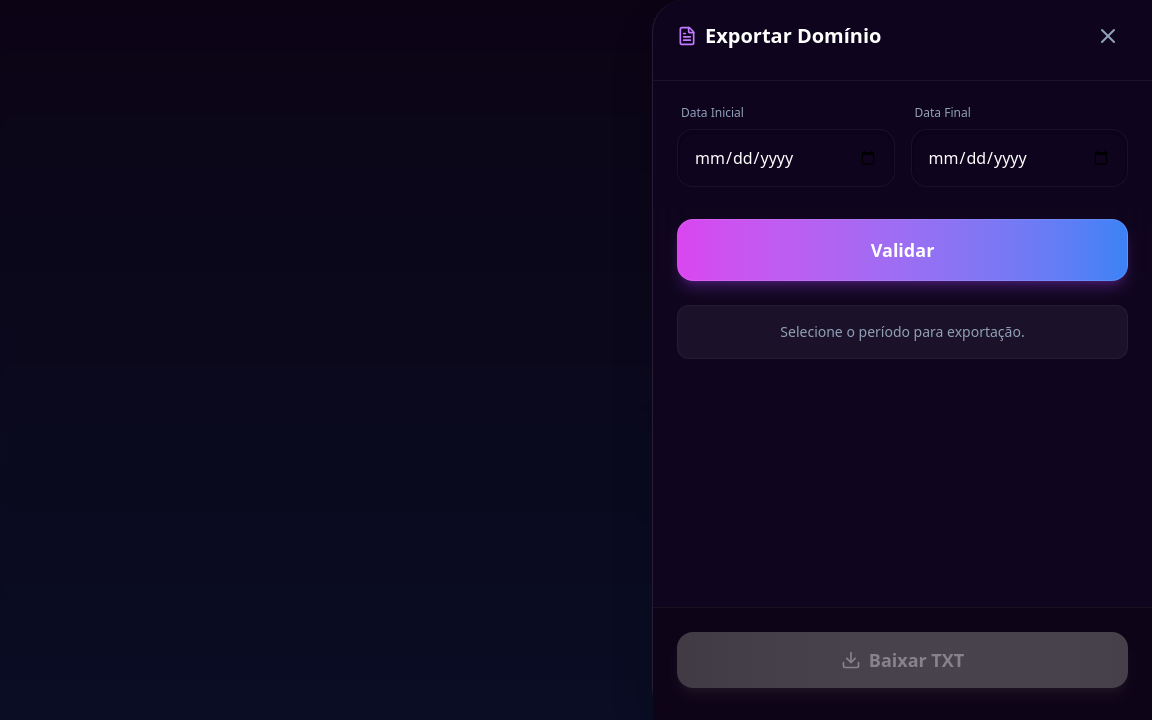
Test: ExportDominioModal & TransactionHistoryPage › Modal Behavior › T11 — Validação sem blockers libera download
Type "2026-05-01" into the date field labelled "Data Inicial". click: (786, 158)
box: x1=677 y1=129 x2=894 y2=187
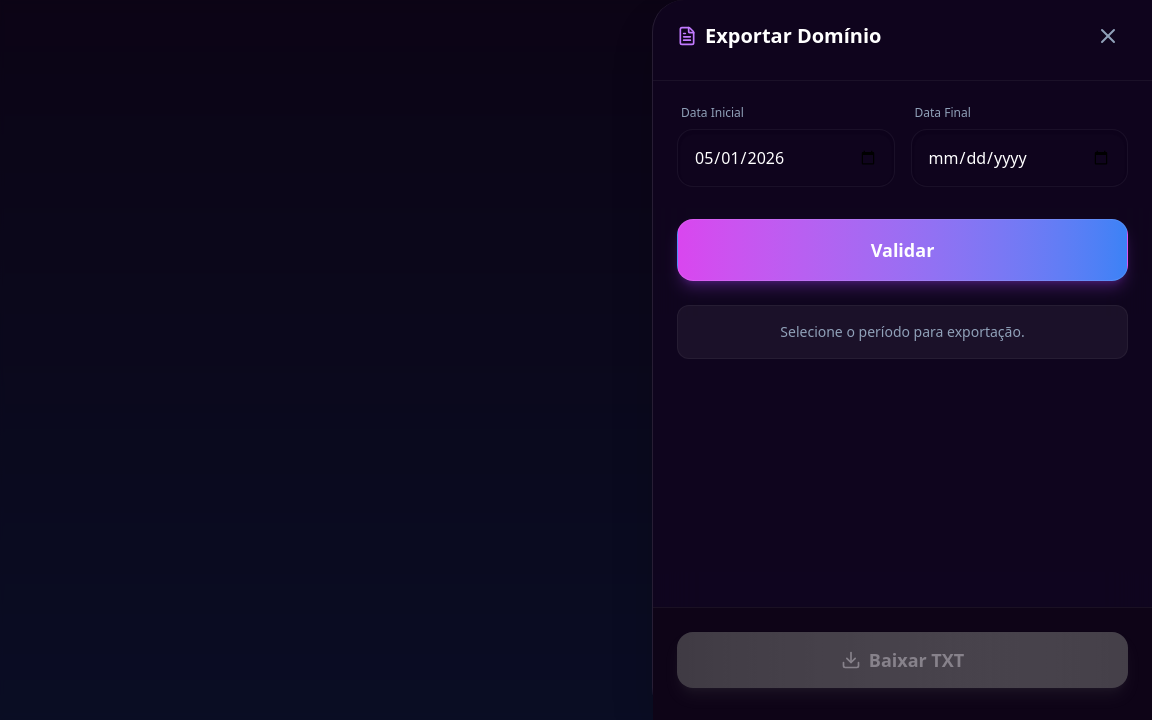
Type "2026-05-31" into the date field labelled "Data Final". click: (1019, 158)
box: x1=910 y1=129 x2=1128 y2=187
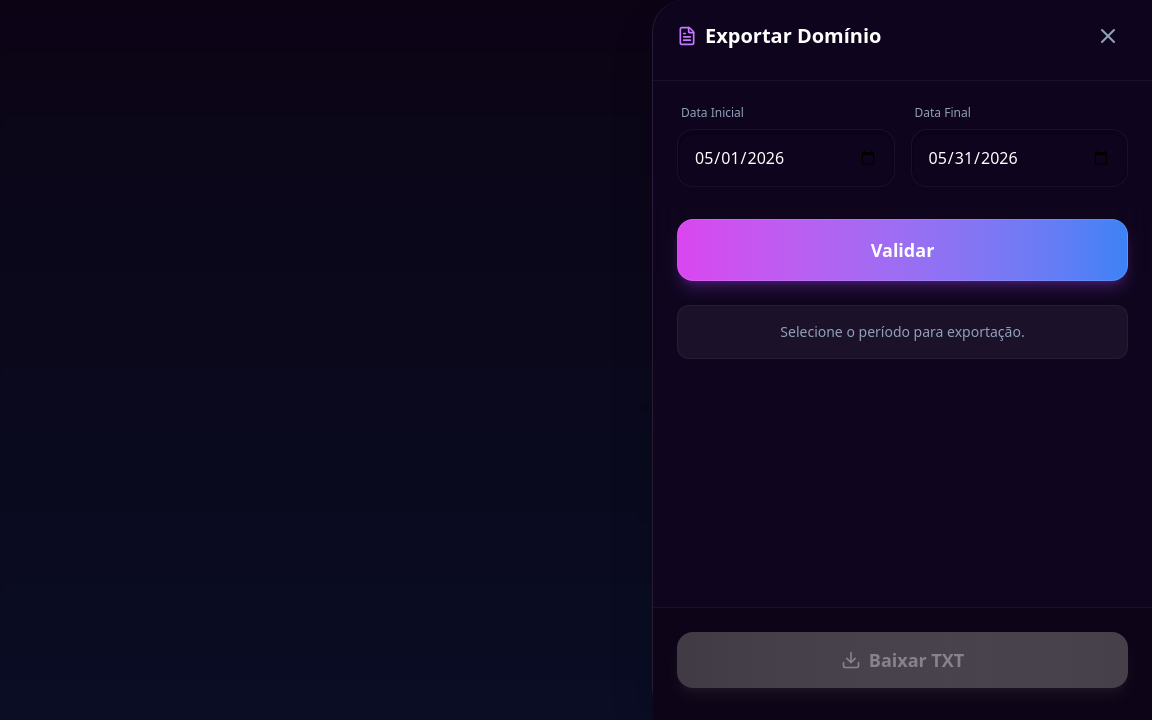
Click the button "Validar". click: (902, 250)
box: x1=677 y1=219 x2=1128 y2=281
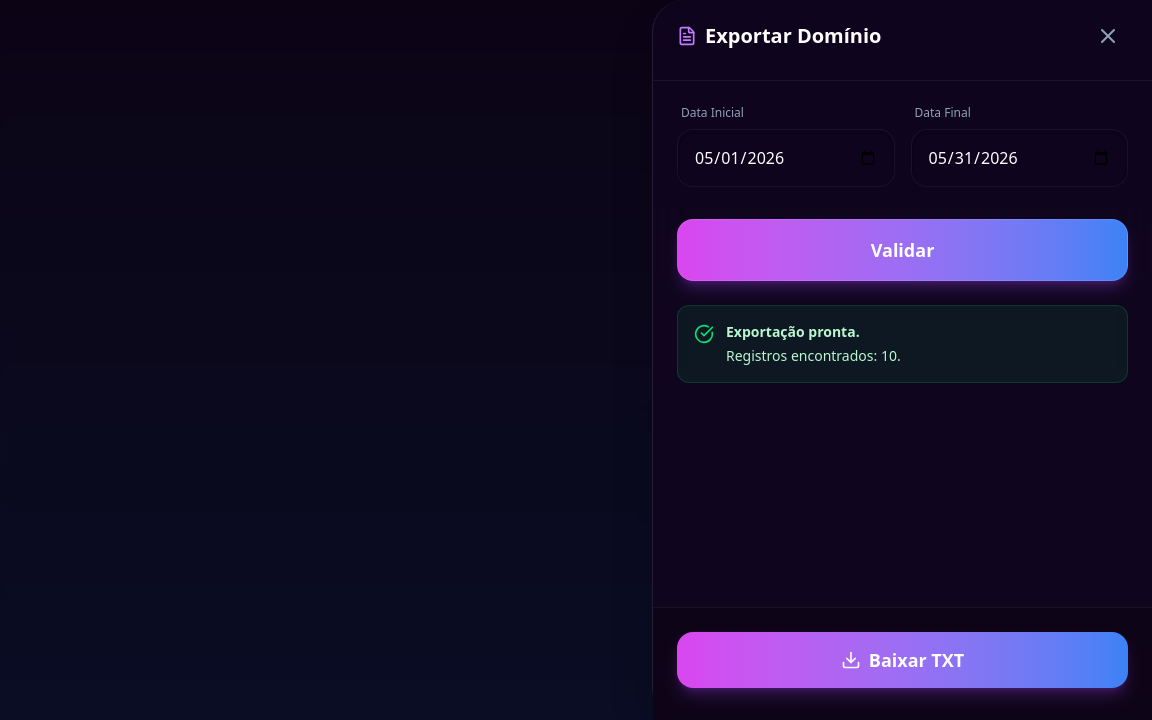
expect the text "Exportação pronta." is shown: met, box x1=726 y1=322 x2=860 y2=341
expect the text "Registros encontrados: 10." is shown: met, box x1=726 y1=346 x2=901 y2=366
expect the button "Baixar TXT" is enabled: met, box x1=677 y1=632 x2=1128 y2=688
